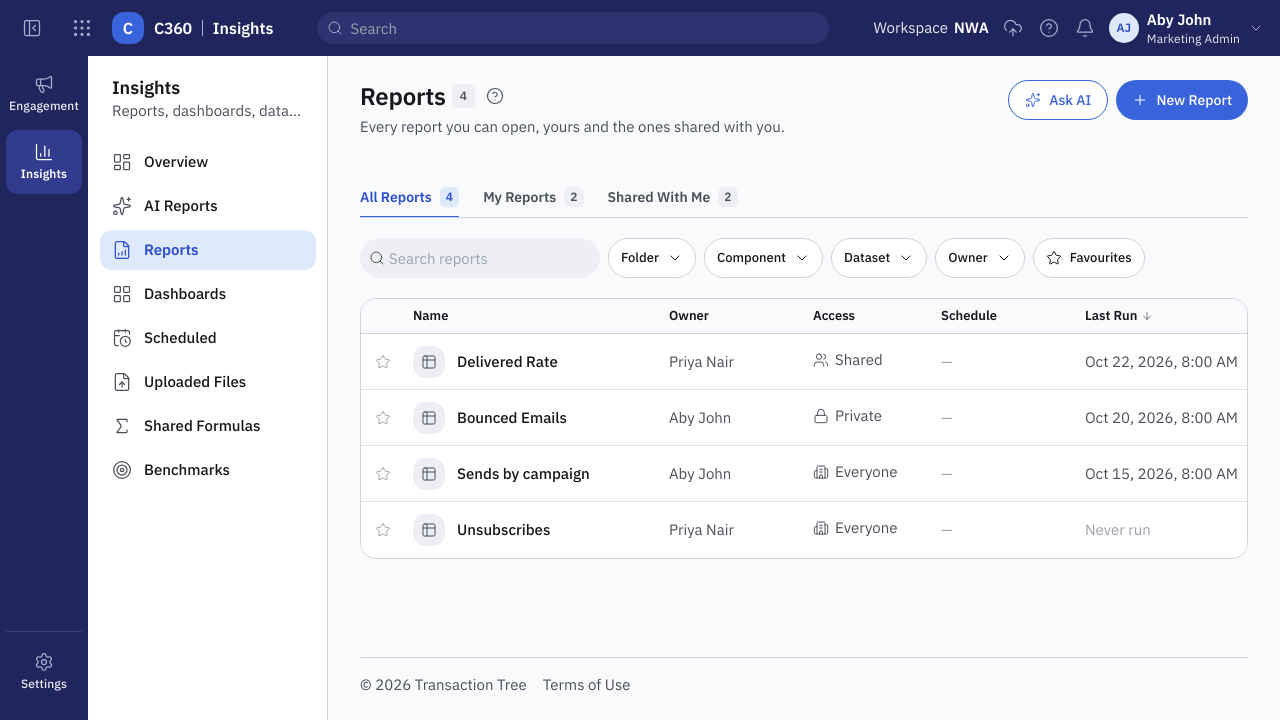
Test: Dataset and Owner narrow the list and go in the address; the counts follow; Clear Filters resets them
Click the button "Dataset" at (879, 258), box x1=831 y1=238 x2=927 y2=278
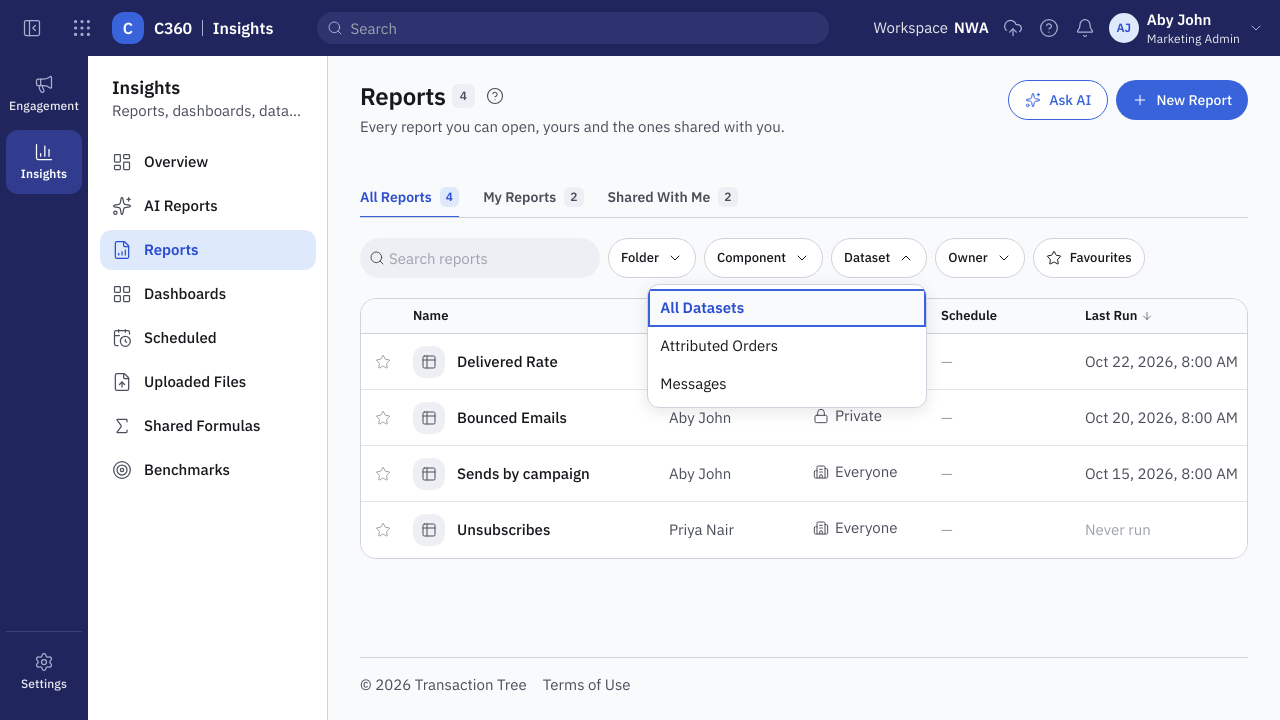
Click the option "Attributed Orders" at (719, 346), box x1=660 y1=336 x2=778 y2=355
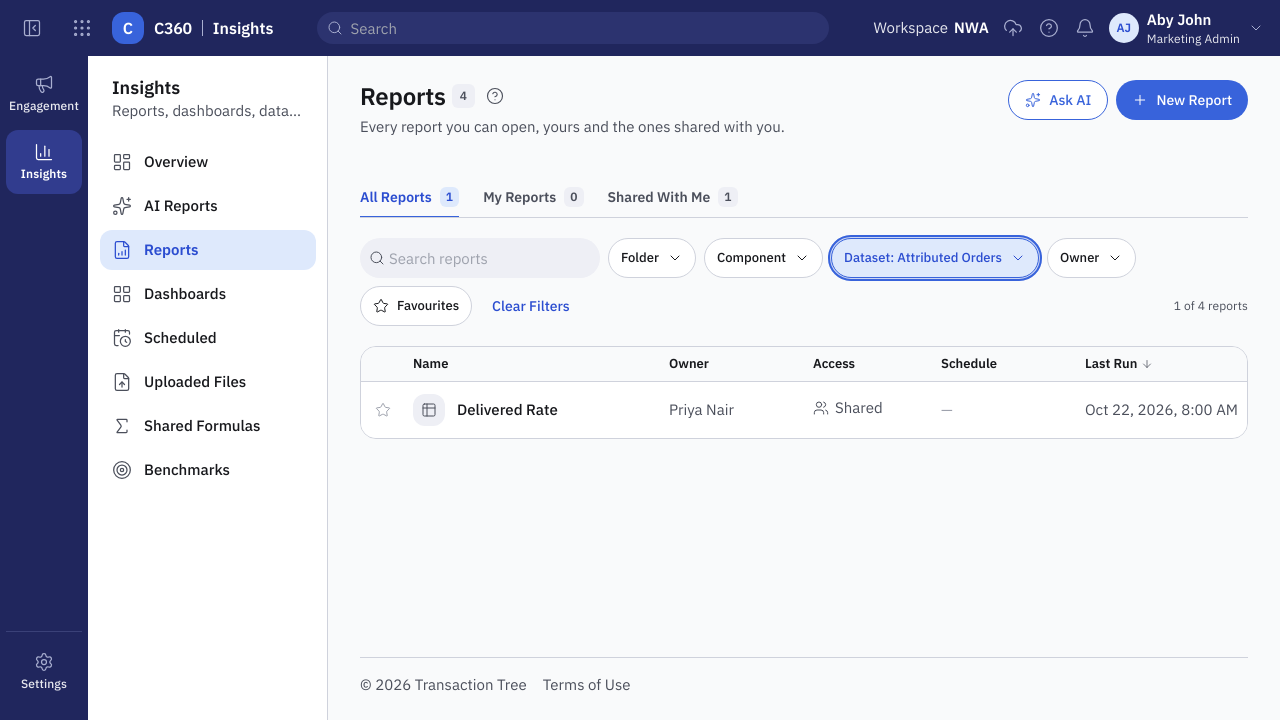
Now the text "1 of 4 reports" is shown, box x1=1174 y1=298 x2=1248 y2=314
Now the tab "My Reports 0" is shown, box x1=483 y1=178 x2=584 y2=218
Click the button "Clear Filters" at (531, 306), box x1=480 y1=290 x2=582 y2=322
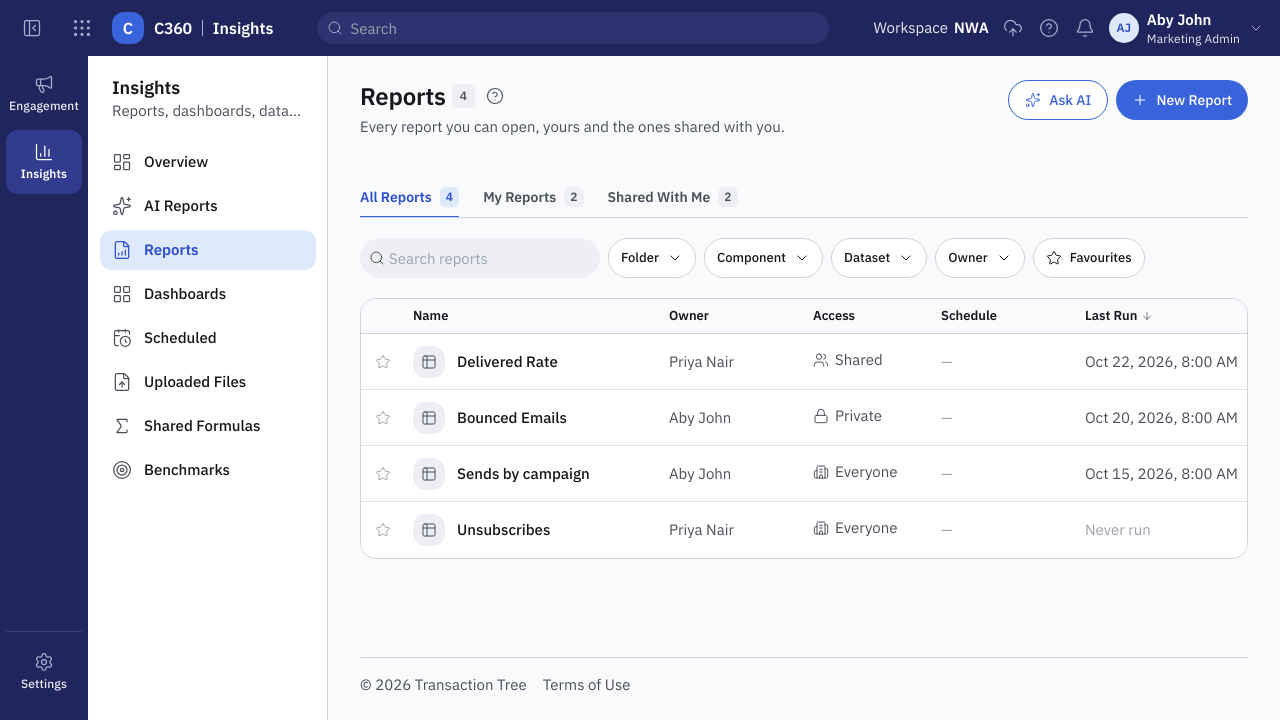
Click the 1st button "Owner" at (980, 258), box x1=935 y1=238 x2=1025 y2=278
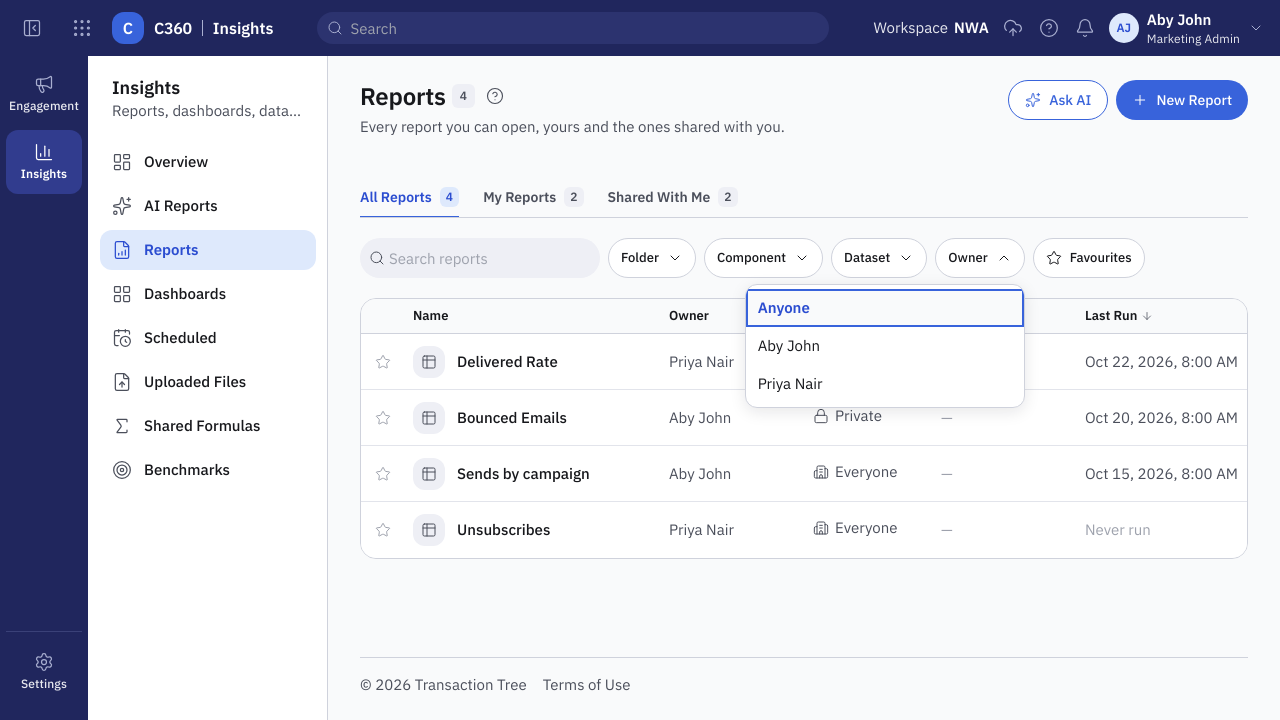
Click the option "Priya Nair" at (790, 384), box x1=758 y1=374 x2=822 y2=393
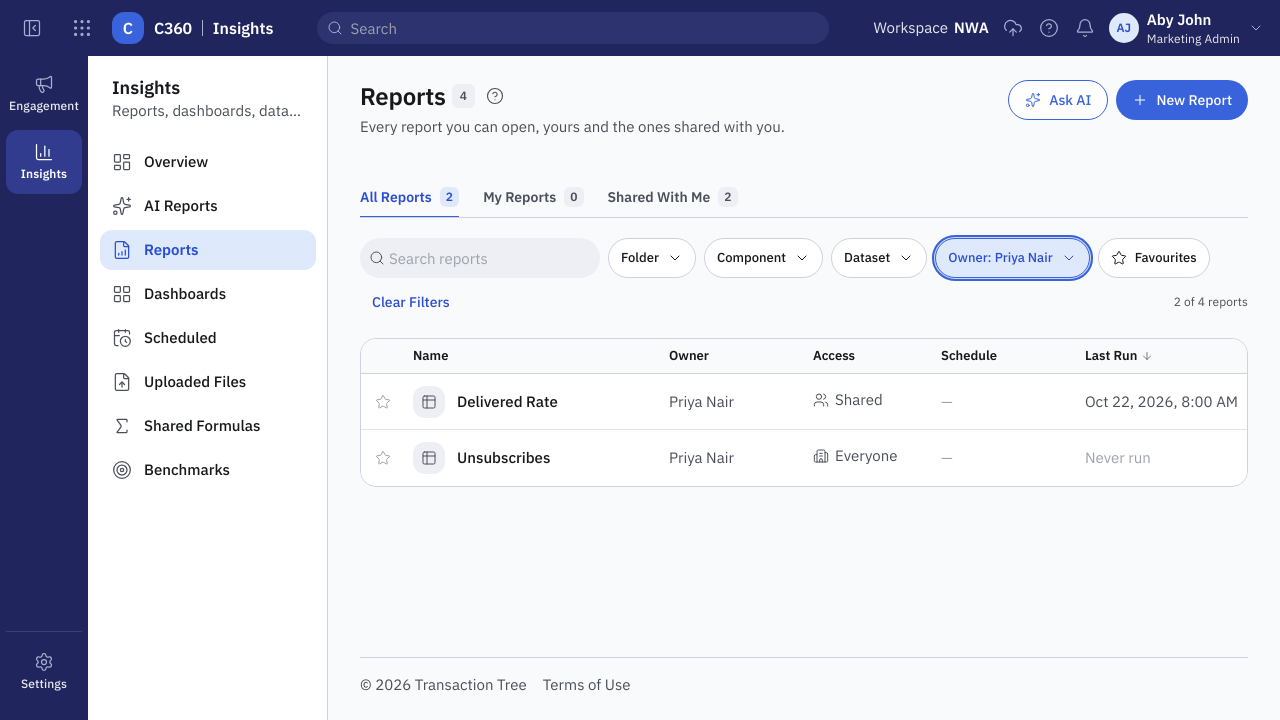
Expected: the cell "Priya Nair" next to "Delivered Rate" is shown, x1=669 y1=392 x2=734 y2=410
Now the button "Owner: Priya Nair" is shown, box x1=935 y1=238 x2=1090 y2=278
Click the button "Clear Filters" at (411, 302), box x1=360 y1=286 x2=462 y2=318
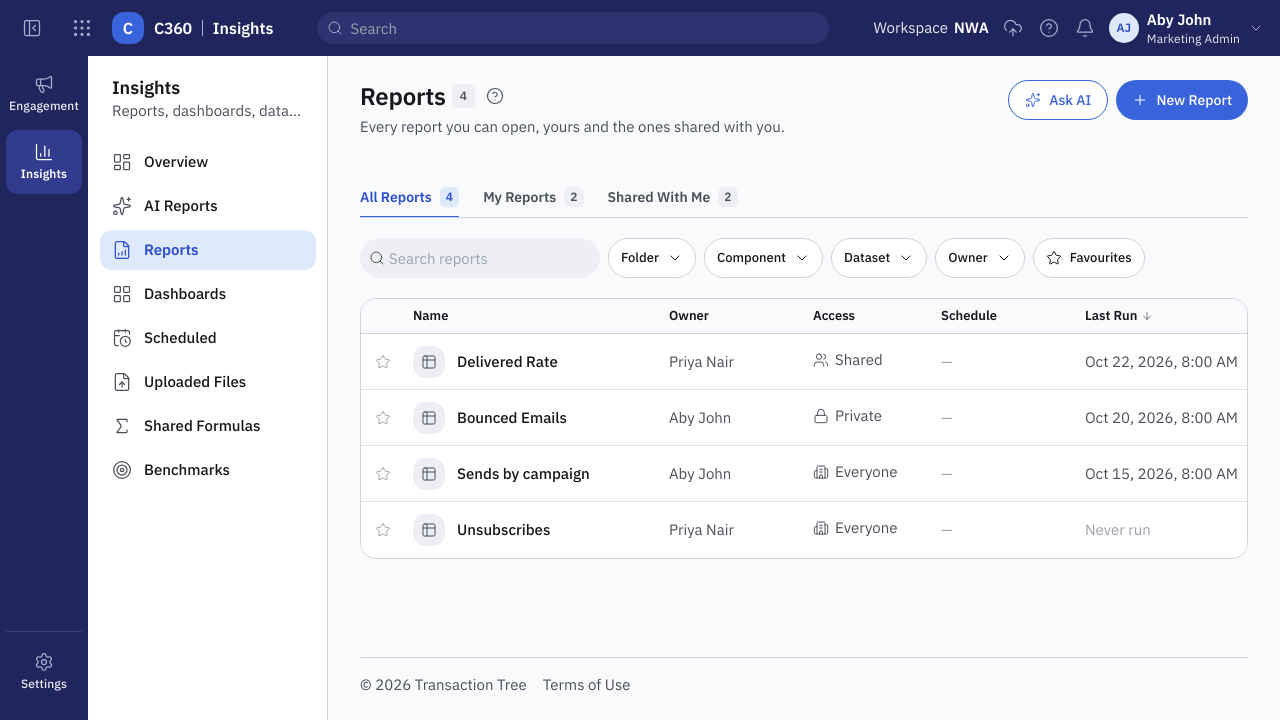
Now the button "Clear Filters" is gone
